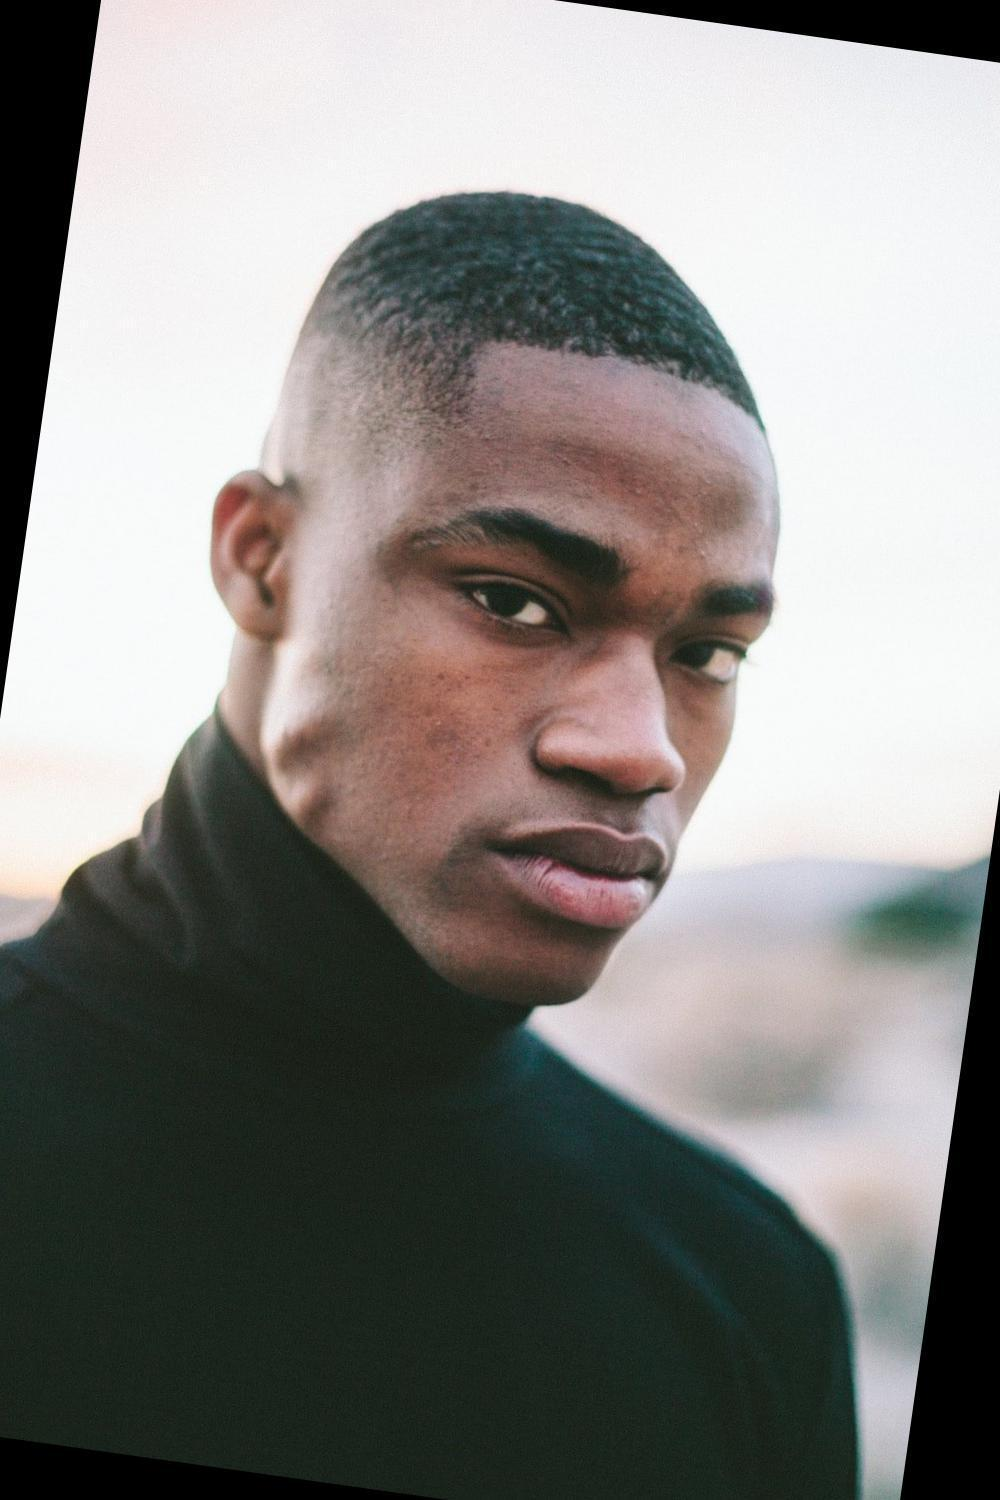Sober: (331, 331, 738, 996)
